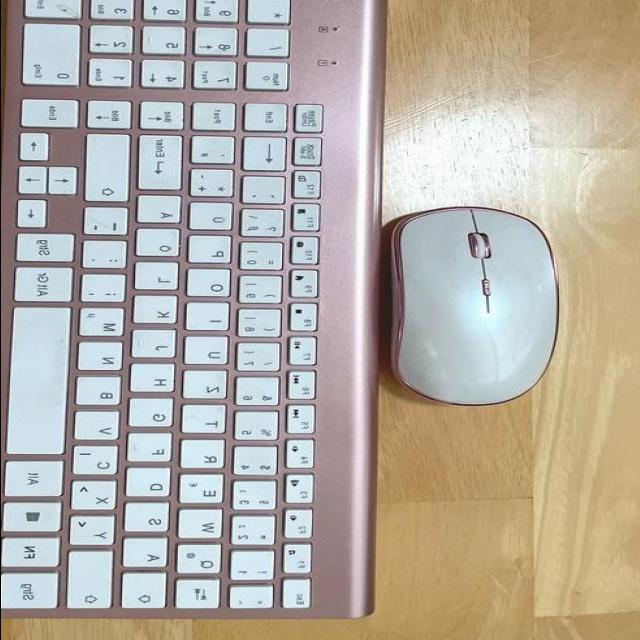0: (242, 244, 289, 274)
1: (233, 553, 280, 584)
2: (234, 518, 280, 550)
3: (235, 483, 281, 515)
4: (236, 449, 283, 480)
5: (237, 414, 284, 445)
6: (238, 379, 285, 409)
7: (239, 344, 285, 374)
8: (241, 311, 287, 341)
9: (241, 278, 288, 308)
a: (126, 540, 173, 571)
accent: (245, 179, 291, 208)
ae: (139, 198, 186, 227)
alt-left: (7, 460, 69, 499)
altgr-right: (16, 268, 78, 306)
b: (78, 379, 126, 410)
c: (76, 447, 124, 479)
caret: (232, 588, 279, 613)
comma: (84, 277, 132, 306)
d: (128, 469, 176, 500)
del: (246, 138, 293, 174)
e: (182, 476, 229, 508)
enter: (141, 136, 188, 194)
f: (130, 435, 177, 465)
g: (132, 400, 179, 430)
h: (133, 366, 180, 396)
hash: (194, 139, 240, 168)
i: (189, 305, 236, 334)
j: (134, 332, 182, 362)
k: (137, 298, 184, 328)
keyboard: (0, 1, 393, 627)
l: (138, 265, 185, 294)
m: (81, 309, 131, 340)
minus: (86, 209, 133, 239)
n: (81, 344, 128, 375)
o: (190, 272, 236, 302)
oe: (138, 231, 185, 260)
p: (190, 239, 237, 268)
plus: (193, 171, 240, 201)
point: (86, 243, 132, 273)
q: (180, 546, 227, 579)
r: (184, 442, 231, 473)
s: (128, 505, 175, 536)
shift-left: (70, 553, 120, 614)
shift-lock: (124, 575, 172, 613)
shift-right: (87, 135, 135, 204)
space: (9, 310, 74, 457)
ss: (243, 212, 290, 242)
strg-left: (2, 574, 64, 614)
strg-right: (19, 234, 80, 266)
t: (185, 408, 232, 437)
tab: (178, 580, 225, 612)
u: (186, 339, 234, 369)
ue: (191, 204, 238, 234)
v: (77, 413, 125, 444)
w: (181, 512, 228, 543)
x: (74, 482, 122, 514)
y: (73, 518, 120, 550)
z: (186, 373, 233, 403)
